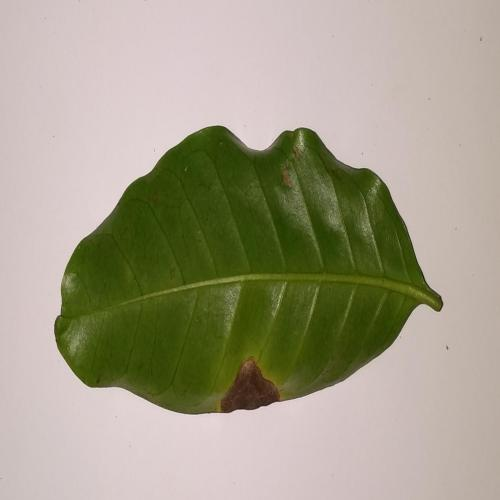leaf: (55, 102, 457, 420)
phoma: (221, 344, 291, 425)
